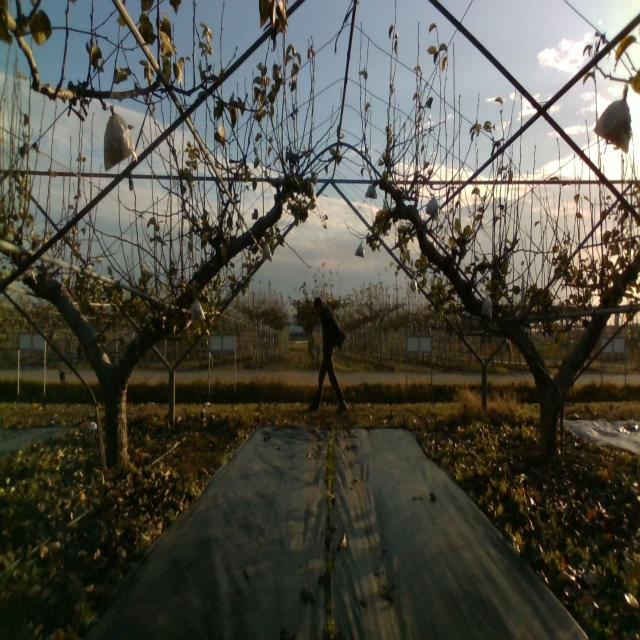pearbags: (308, 296, 348, 418), (594, 85, 634, 154), (102, 107, 138, 172), (190, 299, 208, 323), (426, 195, 441, 221), (481, 294, 493, 318), (365, 182, 377, 200)
